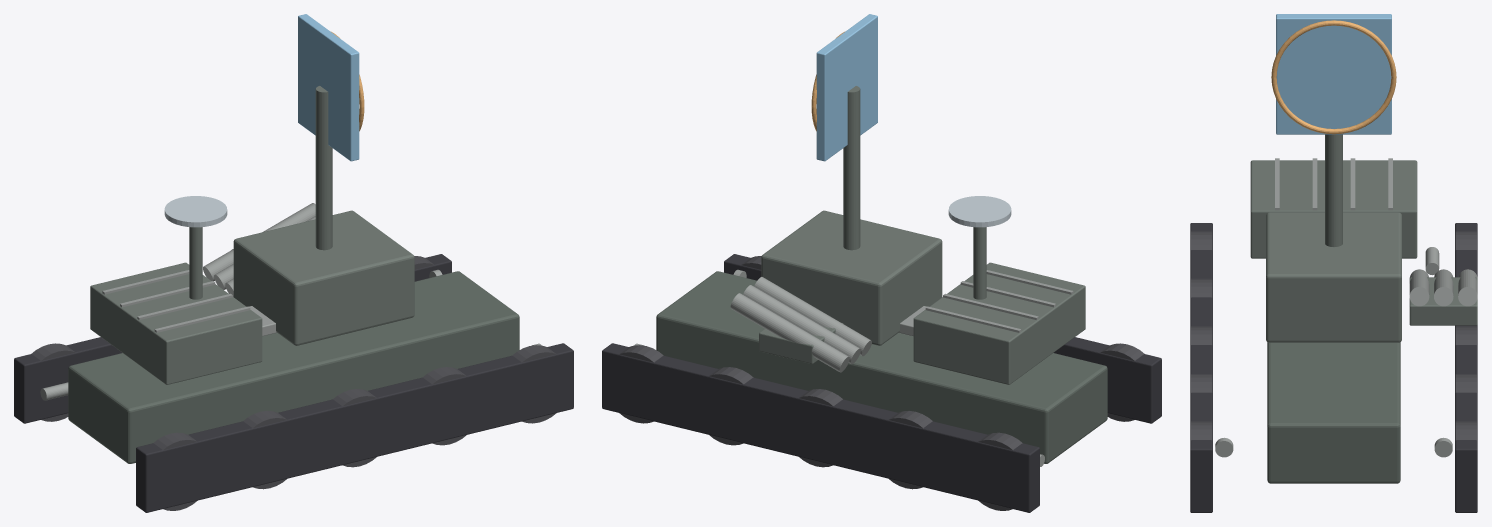
Rendered from lanzador_hpm.glb.
3 views of the same model, side by side, from view 1: azimuth 30°, elevation 25°; view 2: azimuth 150°, elevation 25°; view 3: azimuth 270°, elevation 25° (orthographic). The views are drawn at different scales.
Visible parts, largest first — view 1: Chasis, Oruga_Derecha, Torreta_HPM, Generador, EmisorHPM, Oruga_Izquierda, Mastil, DiscoRadar, MastilRadar, TuboMisil_2, Rueda_Derecha_3, Rueda_Derecha_4 (+3 smaller); view 2: Oruga_Izquierda, Chasis, Torreta_HPM, Generador, EmisorHPM, Oruga_Derecha, Mastil, TuboMisil_2, TuboMisil_1, TuboMisil_0, DiscoRadar, LanzadorMisil (+6 smaller); view 3: Chasis, Torreta_HPM, EmisorHPM, Generador, Oruga_Derecha, Oruga_Izquierda, FranjaEmisor, Mastil, LanzadorMisil, TuboMisil_0, TuboMisil_2, TuboMisil_1 (+10 smaller).
Part boxes in pixels (x1,y1,x2,y2): Chasis: (68,271,519,463); Oruga_Derecha: (136,343,573,512); Torreta_HPM: (233,210,414,345); Generador: (90,262,262,384); EmisorHPM: (298,14,359,161); Oruga_Izquierda: (14,254,451,423); Mastil: (315,86,332,250); DiscoRadar: (164,196,227,227); MastilRadar: (189,227,202,299); TuboMisil_2: (203,203,315,280); Rueda_Derecha_3: (422,367,466,445); Rueda_Derecha_4: (512,345,556,423); Oruga_Izquierda: (602,343,1039,512); Chasis: (656,271,1107,463); Torreta_HPM: (761,210,942,345); Generador: (913,262,1085,384); EmisorHPM: (816,14,877,161); Oruga_Derecha: (724,254,1161,423); Mastil: (843,86,860,250); TuboMisil_2: (730,293,849,372); TuboMisil_1: (743,285,860,364); TuboMisil_0: (754,277,871,356); DiscoRadar: (948,196,1011,227); LanzadorMisil: (759,323,843,363); Chasis: (1267,342,1400,483); Torreta_HPM: (1266,212,1401,342); EmisorHPM: (1276,14,1391,134); Generador: (1250,160,1417,258); Oruga_Derecha: (1190,223,1212,512); Oruga_Izquierda: (1455,223,1477,512); FranjaEmisor: (1271,20,1396,134); Mastil: (1325,134,1342,246); LanzadorMisil: (1409,277,1477,325); TuboMisil_0: (1409,269,1429,306); TuboMisil_2: (1458,269,1477,306); TuboMisil_1: (1434,269,1453,306).
Size of the model in its own units: 7.1 by 5.95 by 3.8.
